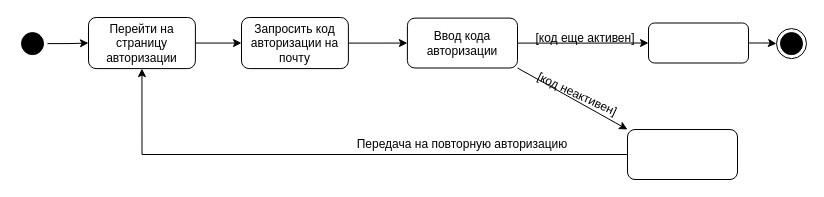
Some shapes in this 824 by 197 pixel diagram are drawn without their labels. Each missing label, with the centre of its shape:
Отклонение авторизации: (x=682, y=154)
Подтверждение авторизации: (x=698, y=42)
